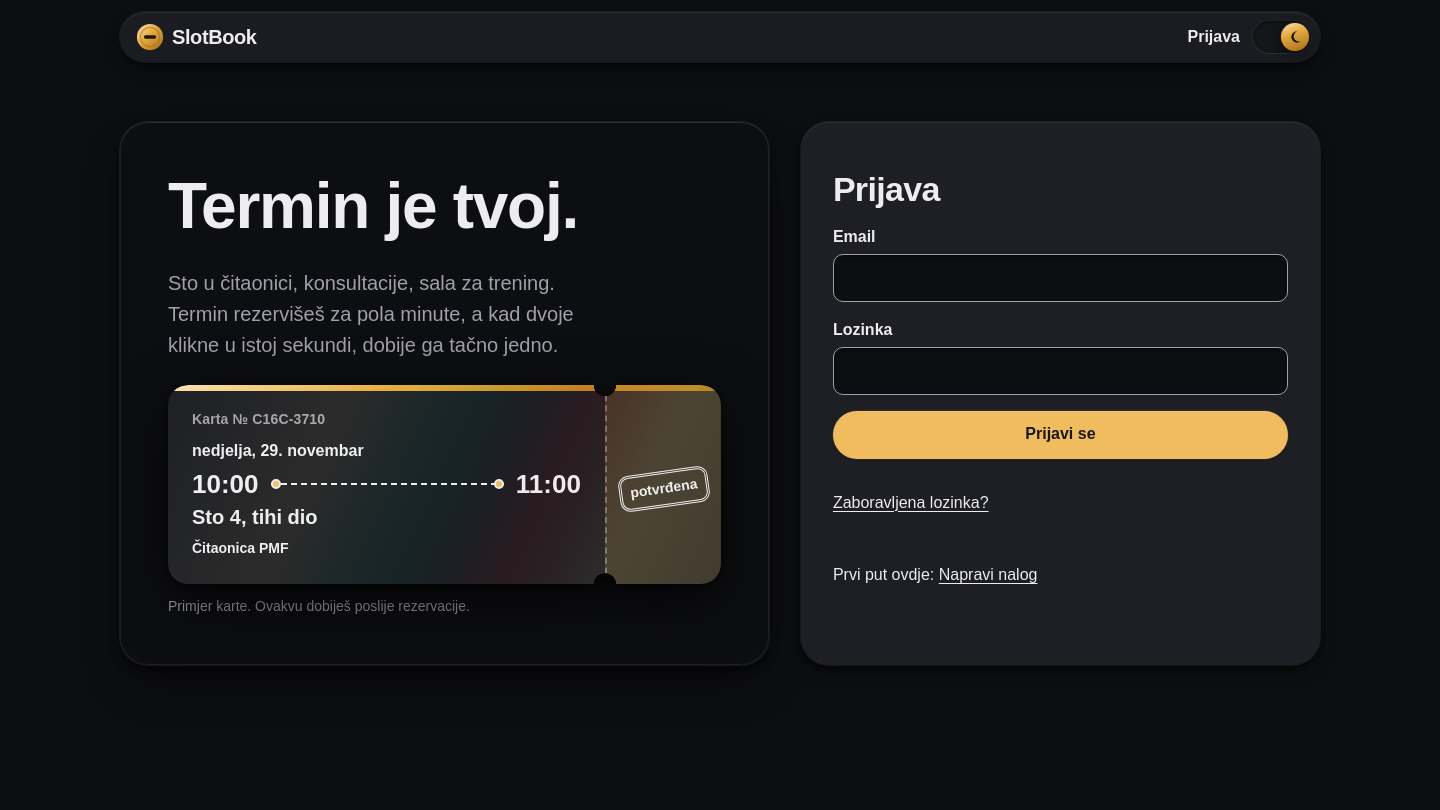
Scenario: provider koji nije prijavljen se prijavi i vrati na link s kodom
In the field labelled "Email": (1060, 278) [833,254,1288,302], type "hana@primjer.ba"
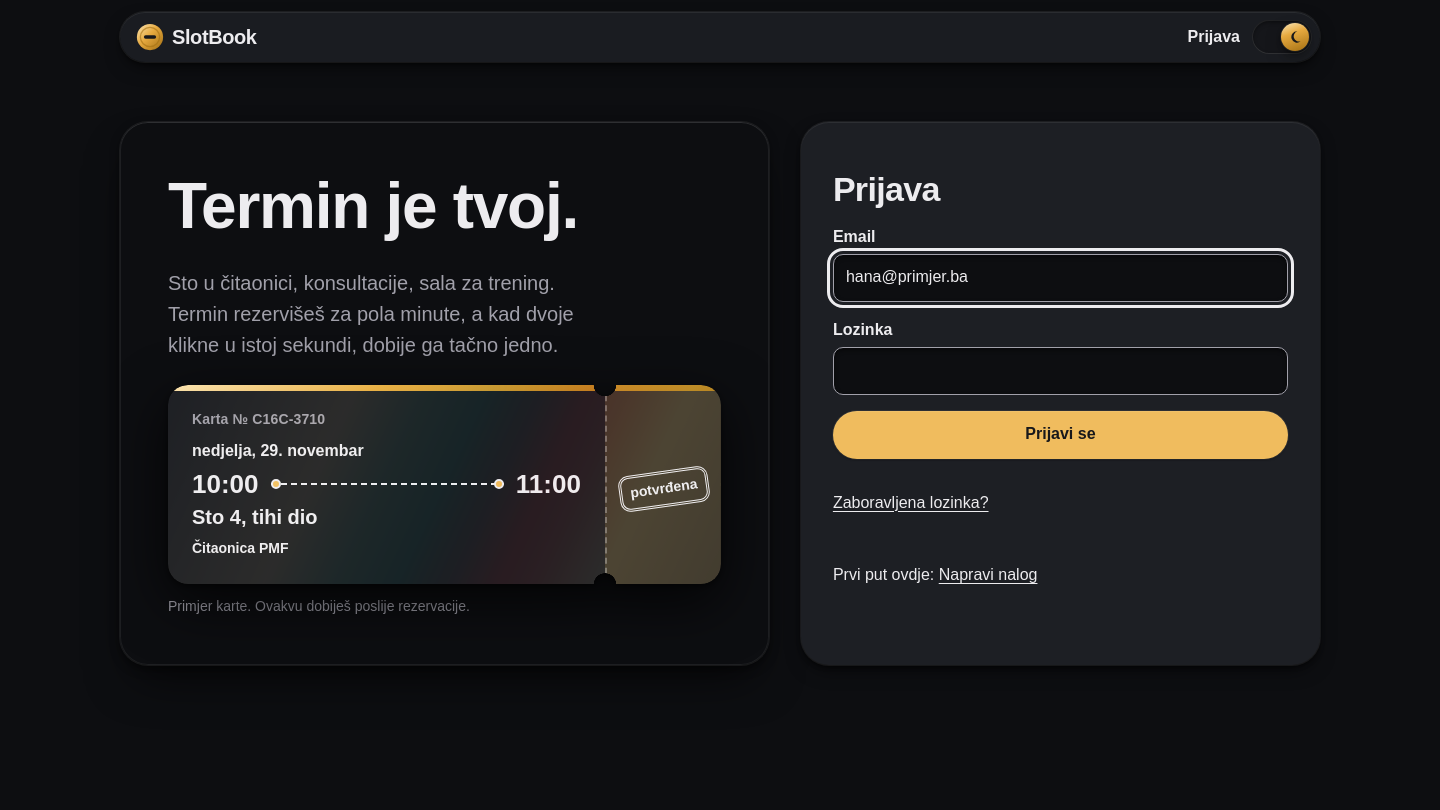
In the password field labelled "Lozinka": (1060, 371) [833,347,1288,395], type "čitaonica1"
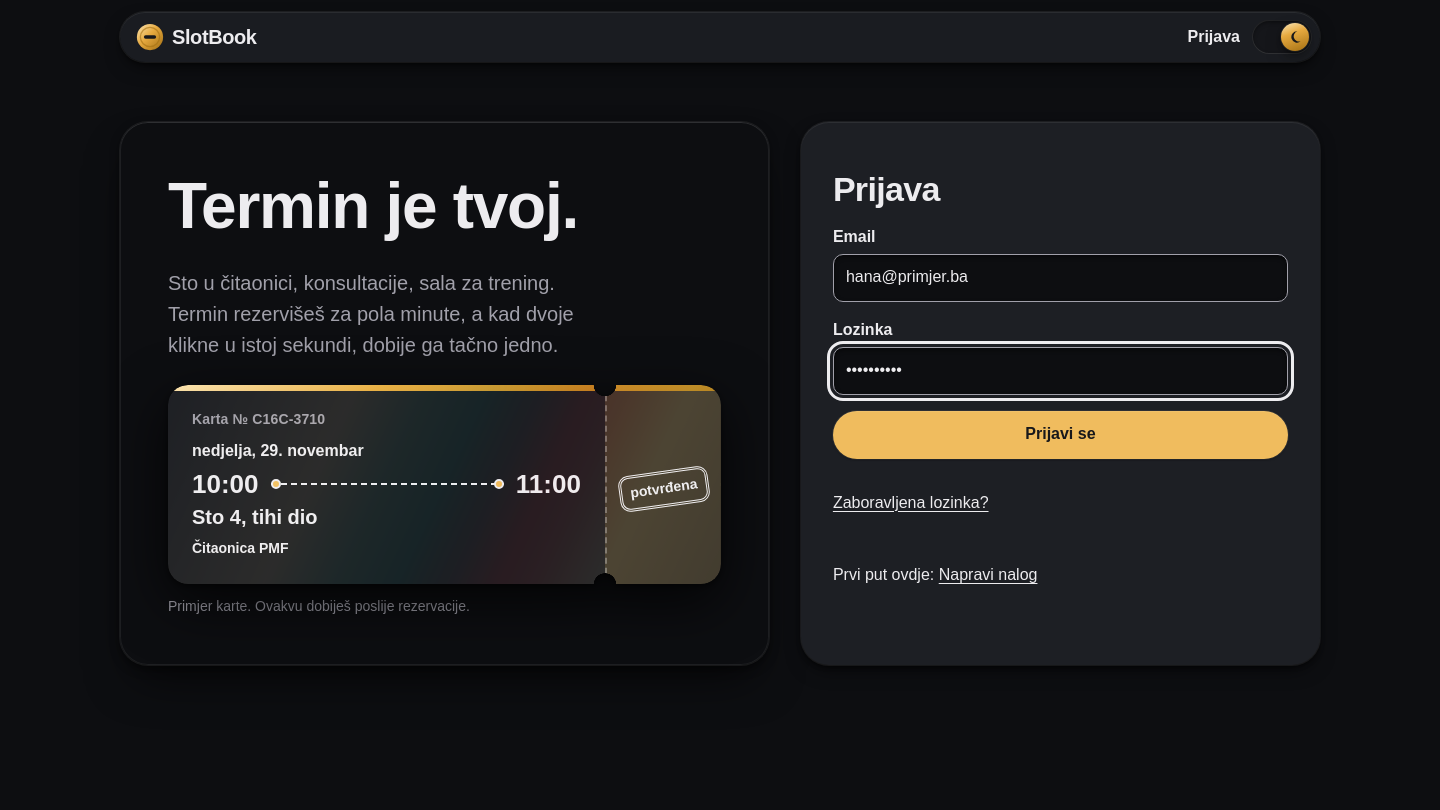
Click the button "Prijavi se": (1060, 435) [833,411,1288,459]
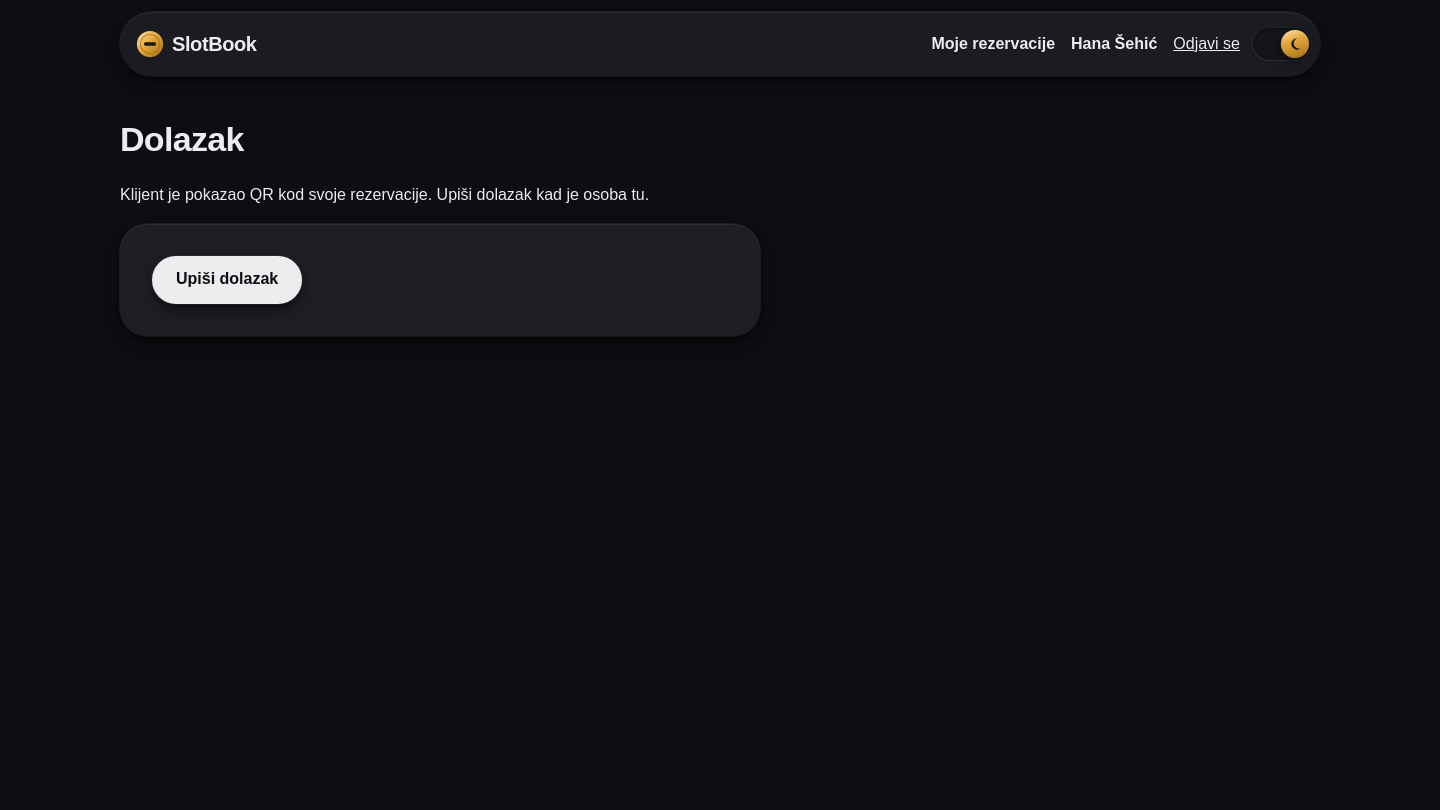
Check: the button "Upiši dolazak" is shown, box [152,256,302,304]
